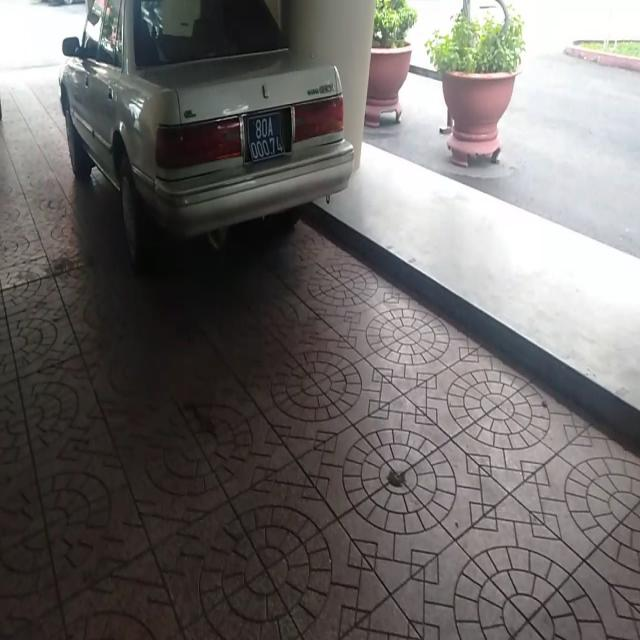bien_xanh: (248, 112, 286, 160)
